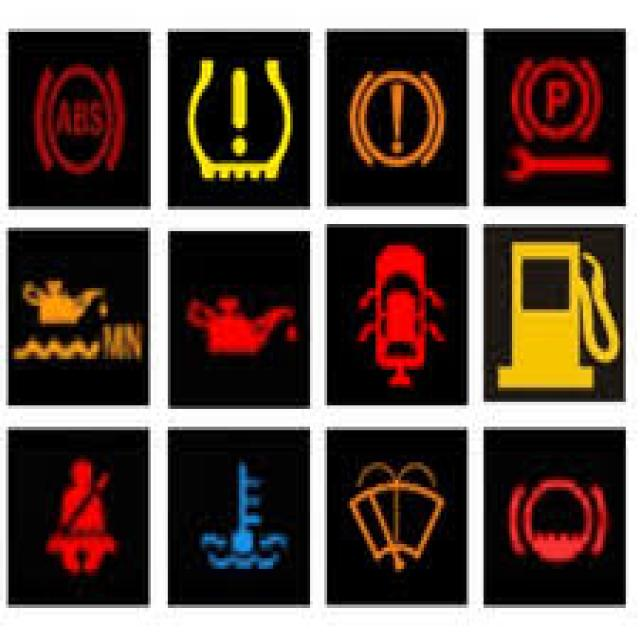kontrolka: (492, 234, 624, 392), (344, 243, 459, 411), (187, 50, 298, 186), (192, 454, 296, 578), (348, 460, 448, 585), (28, 58, 128, 180), (508, 460, 618, 570), (36, 446, 122, 585), (349, 68, 449, 171), (508, 53, 605, 146), (182, 289, 300, 364), (18, 273, 116, 331), (18, 271, 114, 328)
